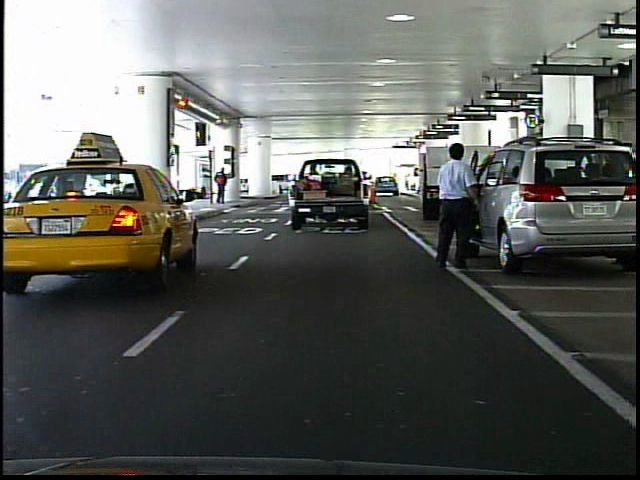person: (428, 137, 484, 278), (212, 165, 231, 207)
